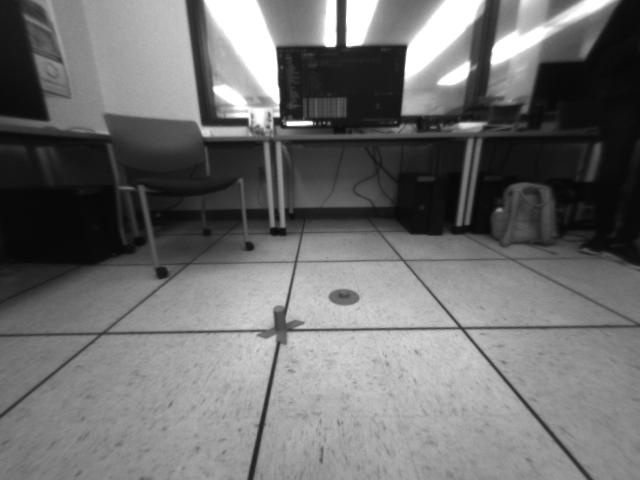X: (255, 305, 305, 346)
